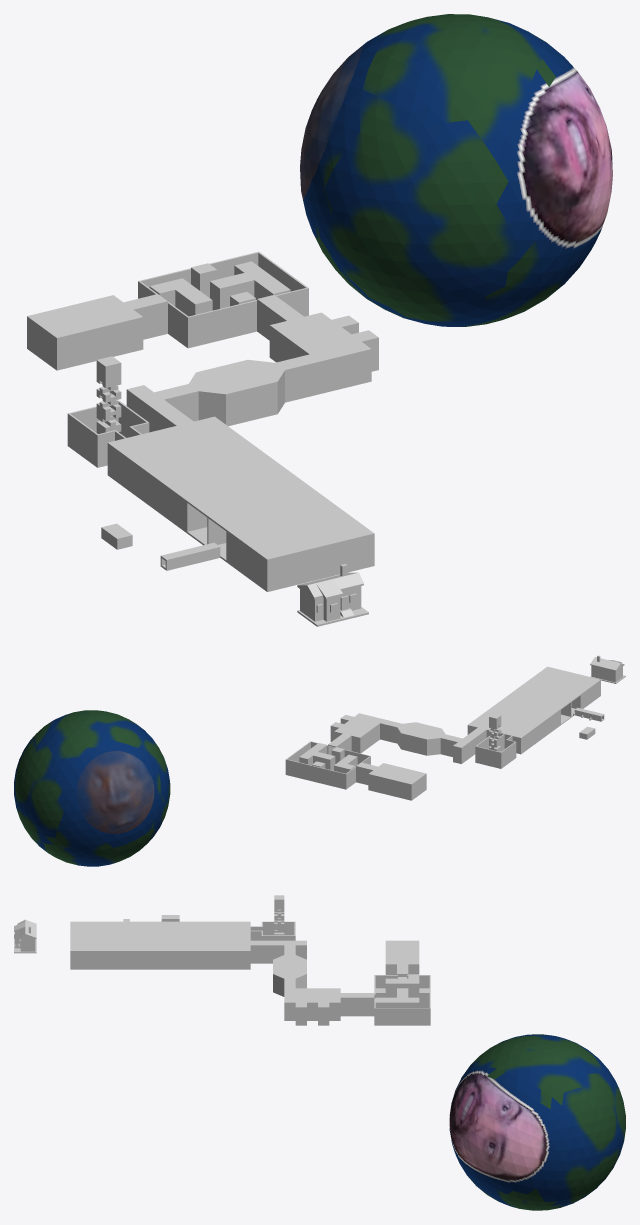
Rendered from MinnHax2024.glb.
3 renders of one model, top to bottom at view 1: azimuth 30°, elevation 25°; view 2: azimuth 150°, elevation 25°; view 3: azimuth 270°, elevation 25°, orthographic. The views are drawn at different scales.
Parts seen in each view (by area): view 1: Icosphere, Cube.130, Cube.125, Cube.090, Cube.042, Cube.046, Cube.040, Cube.041, Cube.039, Cube.043, Cube.045, Cube.044 (+15 smaller); view 2: Icosphere, Cube.088, Cube.130, Cube.125, Cube.089, Cube.040, Cube.039, Cube.042, Cube.041, Cube.045, Cube.046, Cube.044 (+4 smaller); view 3: Icosphere, Cube.103, Cube.130, Cube.125, Cube.043, Cube.044, Cube.045, Cube.046, Cube.018, Cube.021, Cube.024, Cube.027 (+7 smaller).
Boxes of the visible parts, x1=… form: Icosphere: x1=300, y1=14, x2=612, y2=326; Cube.130: x1=27, y1=295, x2=143, y2=339; Cube.125: x1=269, y1=312, x2=371, y2=363; Cube.090: x1=56, y1=319, x2=141, y2=368; Cube.042: x1=227, y1=517, x2=320, y2=561; Cube.046: x1=281, y1=504, x2=374, y2=548; Cube.040: x1=147, y1=459, x2=240, y2=502; Cube.041: x1=107, y1=429, x2=200, y2=472; Cube.039: x1=187, y1=488, x2=280, y2=531; Cube.043: x1=161, y1=416, x2=254, y2=458; Cube.045: x1=241, y1=475, x2=333, y2=517; Cube.044: x1=201, y1=446, x2=293, y2=487; Icosphere: x1=14, y1=710, x2=170, y2=866; Cube.088: x1=285, y1=759, x2=346, y2=788; Cube.130: x1=368, y1=763, x2=426, y2=785; Cube.125: x1=334, y1=713, x2=384, y2=738; Cube.089: x1=369, y1=775, x2=412, y2=799; Cube.040: x1=515, y1=702, x2=560, y2=723; Cube.039: x1=535, y1=687, x2=580, y2=709; Cube.042: x1=554, y1=673, x2=600, y2=694; Cube.041: x1=498, y1=717, x2=540, y2=738; Cube.045: x1=508, y1=681, x2=553, y2=702; Cube.046: x1=528, y1=666, x2=573, y2=687; Cube.044: x1=488, y1=696, x2=533, y2=716; Icosphere: x1=449, y1=1034, x2=625, y2=1210; Cube.103: x1=374, y1=1008, x2=429, y2=1024; Cube.130: x1=385, y1=940, x2=419, y2=965; Cube.125: x1=284, y1=988, x2=340, y2=1003; Cube.043: x1=205, y1=936, x2=250, y2=952; Cube.044: x1=160, y1=936, x2=205, y2=952; Cube.045: x1=115, y1=936, x2=160, y2=952; Cube.046: x1=70, y1=936, x2=115, y2=952; Cube.018: x1=206, y1=952, x2=250, y2=968; Cube.021: x1=161, y1=952, x2=205, y2=968; Cube.024: x1=116, y1=952, x2=160, y2=968; Cube.027: x1=71, y1=952, x2=115, y2=968.
Size of the model in its own units: 467 by 157 by 543.
Materials: 1 (1 with a texture image).
